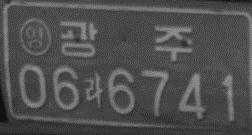0: (17, 63, 47, 109)
1: (214, 73, 242, 121)
4: (177, 73, 207, 120)
6: (52, 64, 80, 112), (107, 67, 135, 115)
7: (141, 68, 169, 118)
광주_D: (59, 20, 193, 62)
라: (83, 71, 105, 108)
영: (18, 18, 52, 56)
